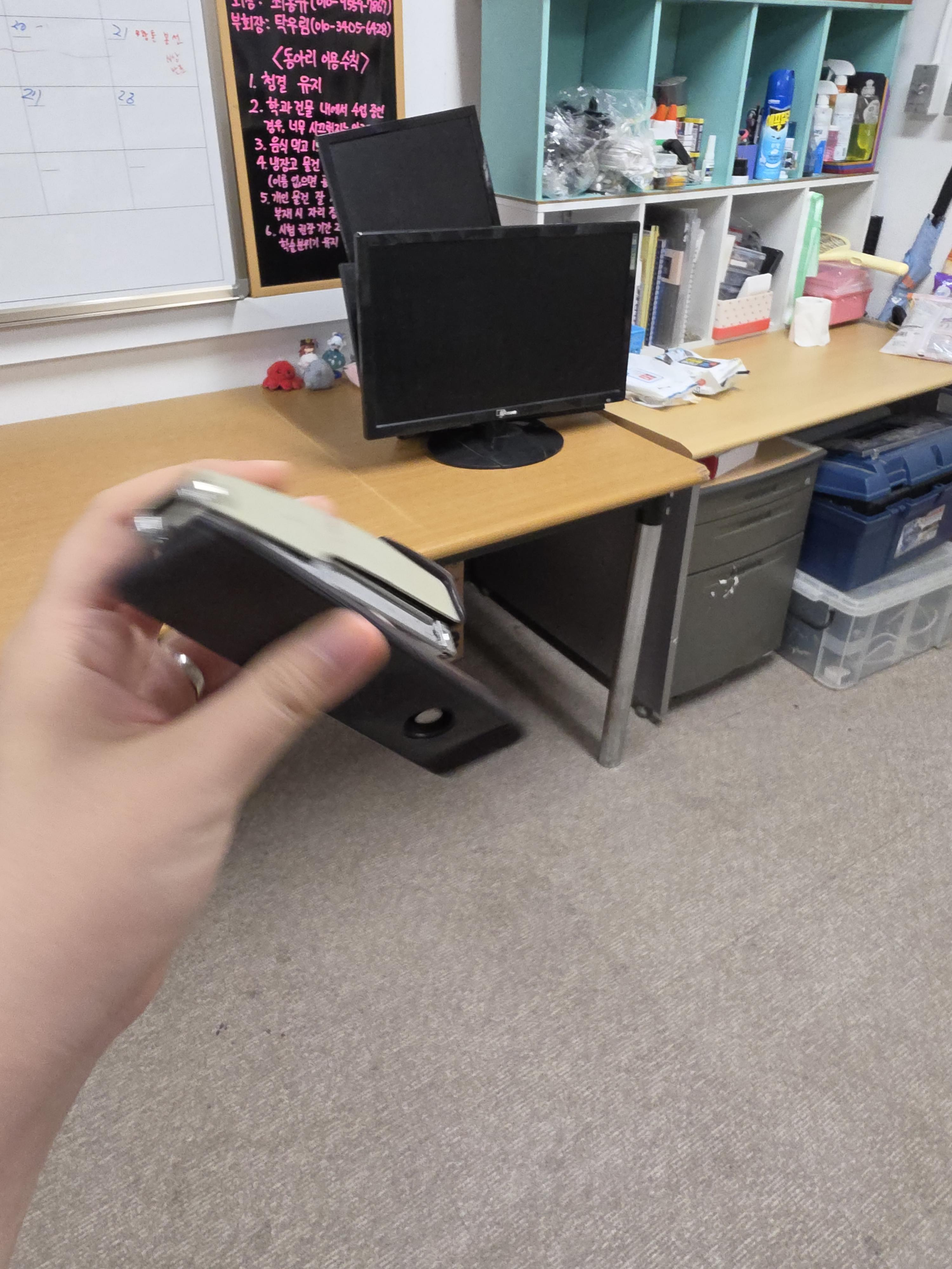stapler: (119, 468, 527, 776)
tissue: (711, 272, 774, 342), (788, 296, 833, 347)
